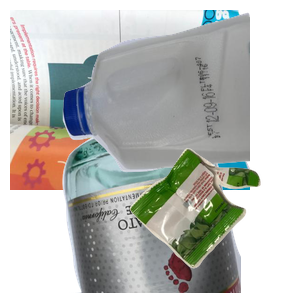glass: (60, 120, 300, 300)
paper: (10, 10, 250, 190)
plastic: (60, 10, 300, 175)
trash: (127, 146, 300, 300)
